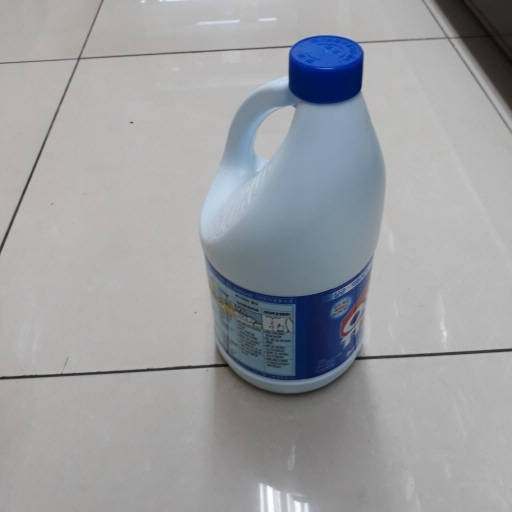Plastic_1: (197, 34, 389, 398)
